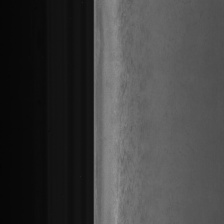silk_spot: (112, 9, 143, 192)
